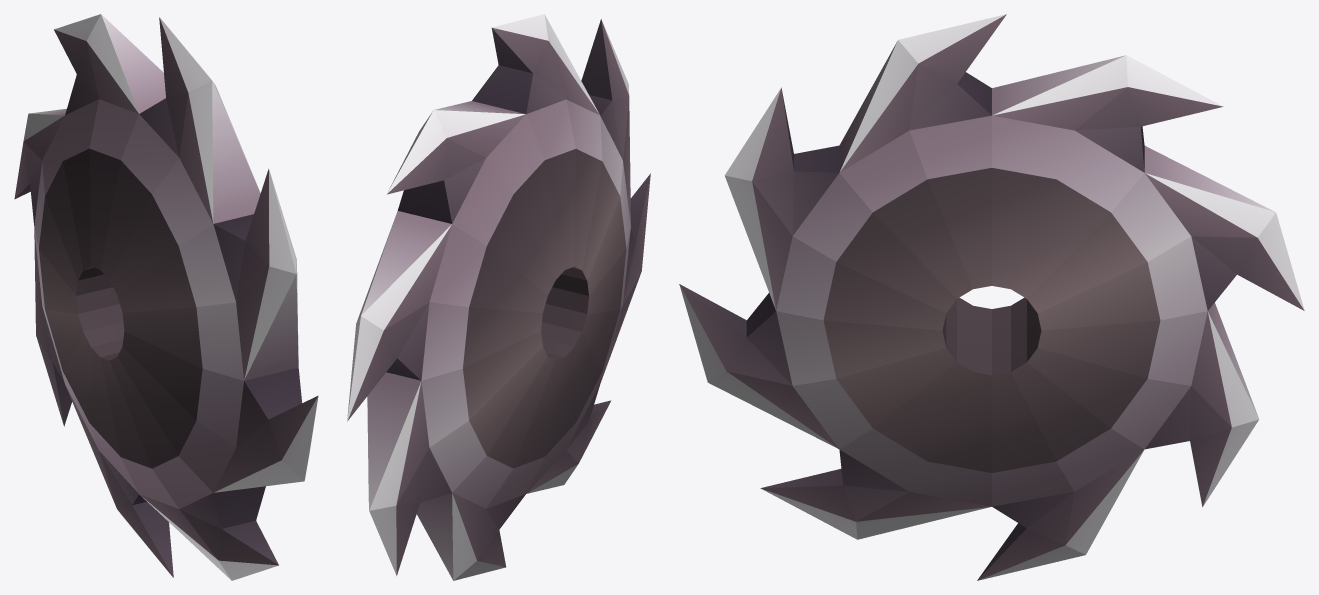
Rendered from sawBlade_1.fbx.
The picture shows the model from 3 angles, left to right: view 1: azimuth 30°, elevation 25°; view 2: azimuth 150°, elevation 25°; view 3: azimuth 270°, elevation 25°; orthographic projection. The views are drawn at different scales.
Visible parts, largest first — view 1: sawBlade_1; view 2: sawBlade_1; view 3: sawBlade_1.
Part boxes in pixels (left/top/right/bottom): sawBlade_1: left=14, top=14, right=318, bottom=580; sawBlade_1: left=347, top=14, right=650, bottom=580; sawBlade_1: left=679, top=14, right=1304, bottom=580.
Bounding box in the file's own units: 1.56 × 6.21 × 6.21.
Materials: 1 (1 with a texture image).
